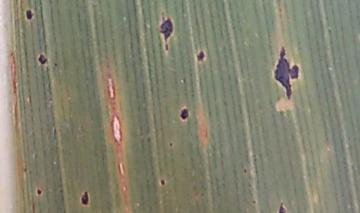tarspot: (274, 44, 299, 100), (159, 13, 173, 51), (80, 189, 89, 207), (179, 106, 189, 121), (37, 53, 48, 64), (277, 200, 286, 213), (25, 9, 34, 20), (196, 51, 205, 62), (35, 187, 42, 196), (159, 177, 166, 186), (22, 166, 29, 174), (52, 61, 59, 68), (250, 198, 257, 205), (242, 166, 248, 174), (167, 141, 174, 147), (58, 187, 64, 194)
